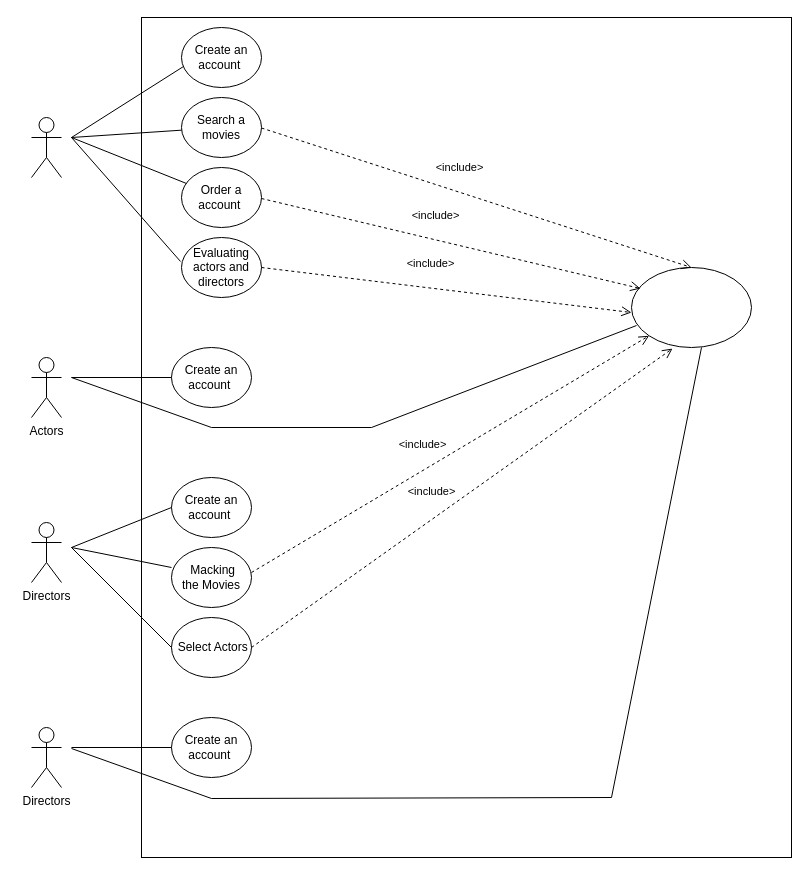
Image size: 809x875. Some labels were removed from this diagram. The box of each missing label's shape, as (x1, y1, x2, y2) in pixels:
Customers: (30, 116, 62, 178)
To log in: (630, 266, 752, 348)
